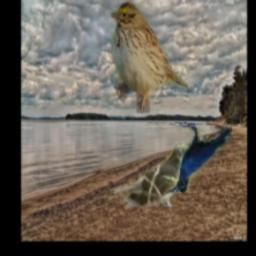Crow: (170, 124, 232, 194)
Cuckoo: (114, 144, 199, 208)
Sparrow: (107, 0, 188, 114)
